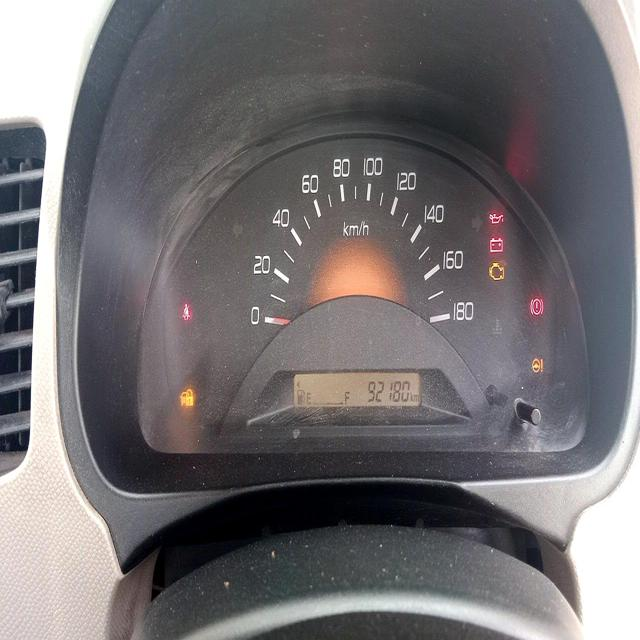odometer: (362, 371, 422, 408)
